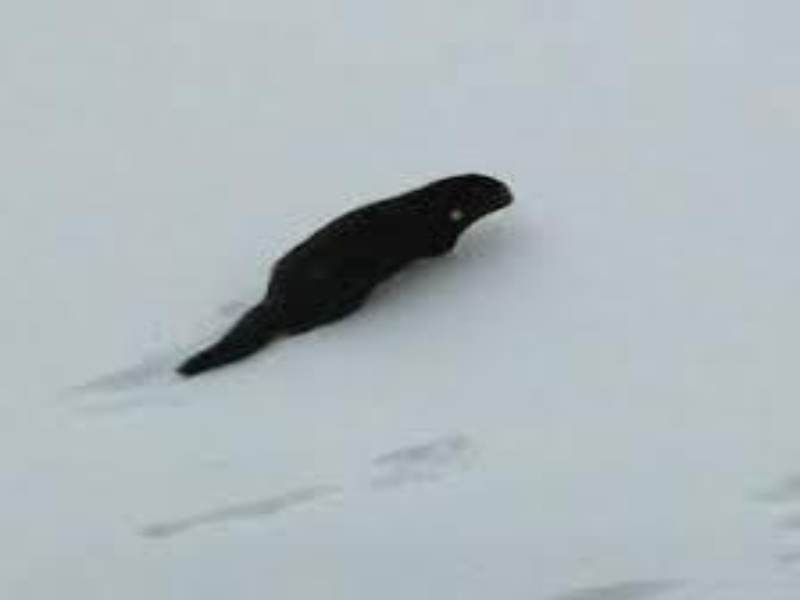minkish: (176, 169, 517, 377)
